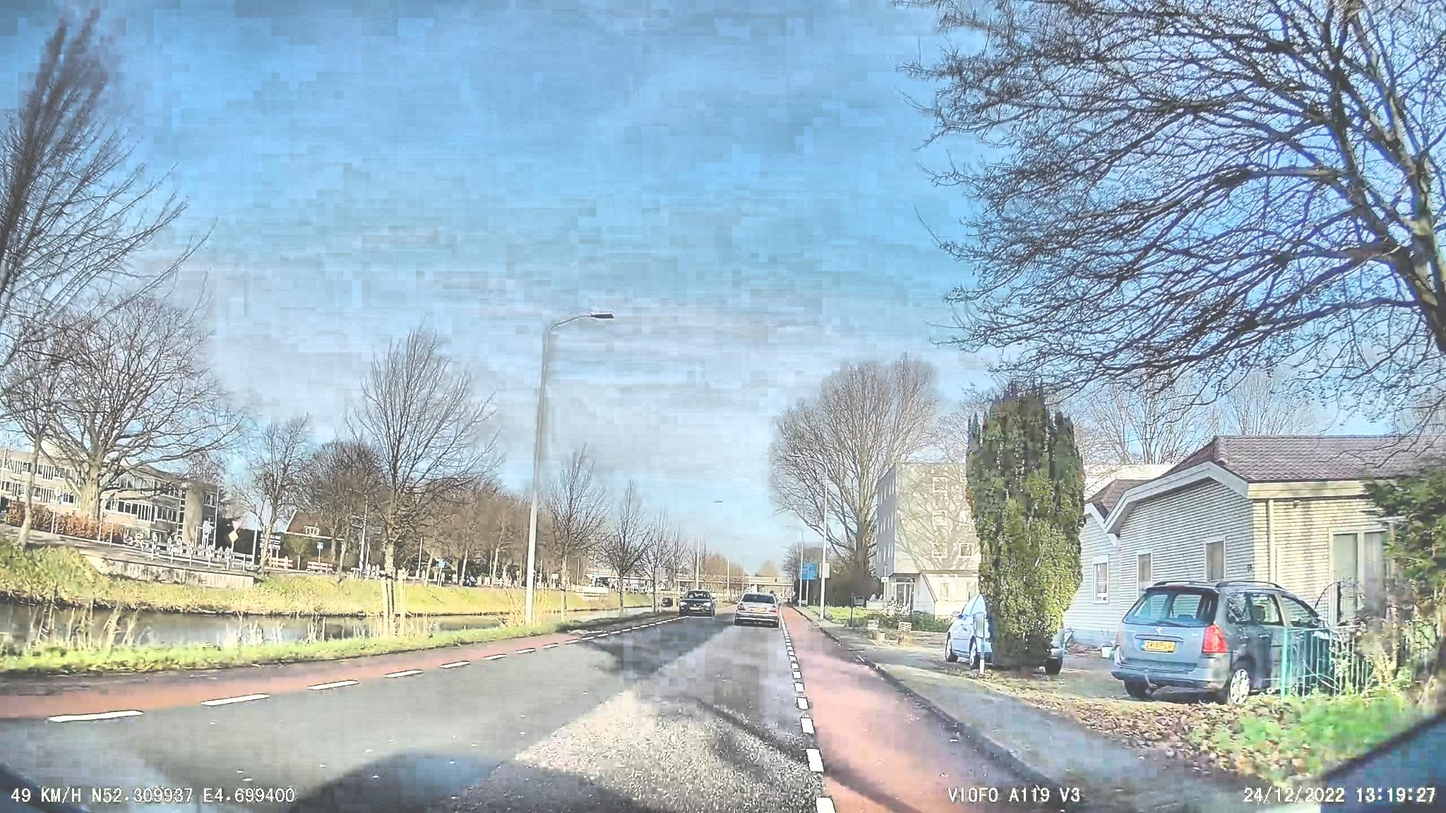Roads: (0, 617, 1072, 813)
